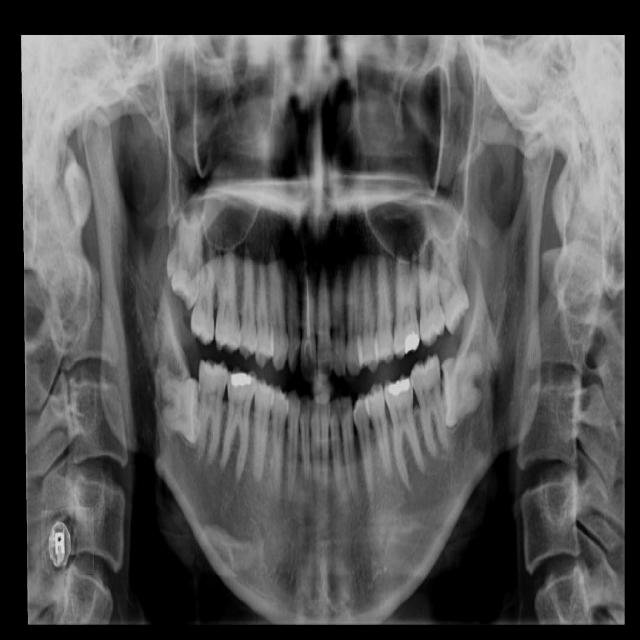Filling: (384, 374, 413, 419), (393, 314, 420, 360)
impacted tooth: (155, 370, 200, 447), (170, 214, 205, 308)
